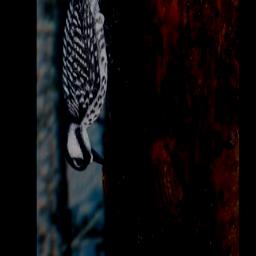Woodpecker: (59, 0, 120, 180)
